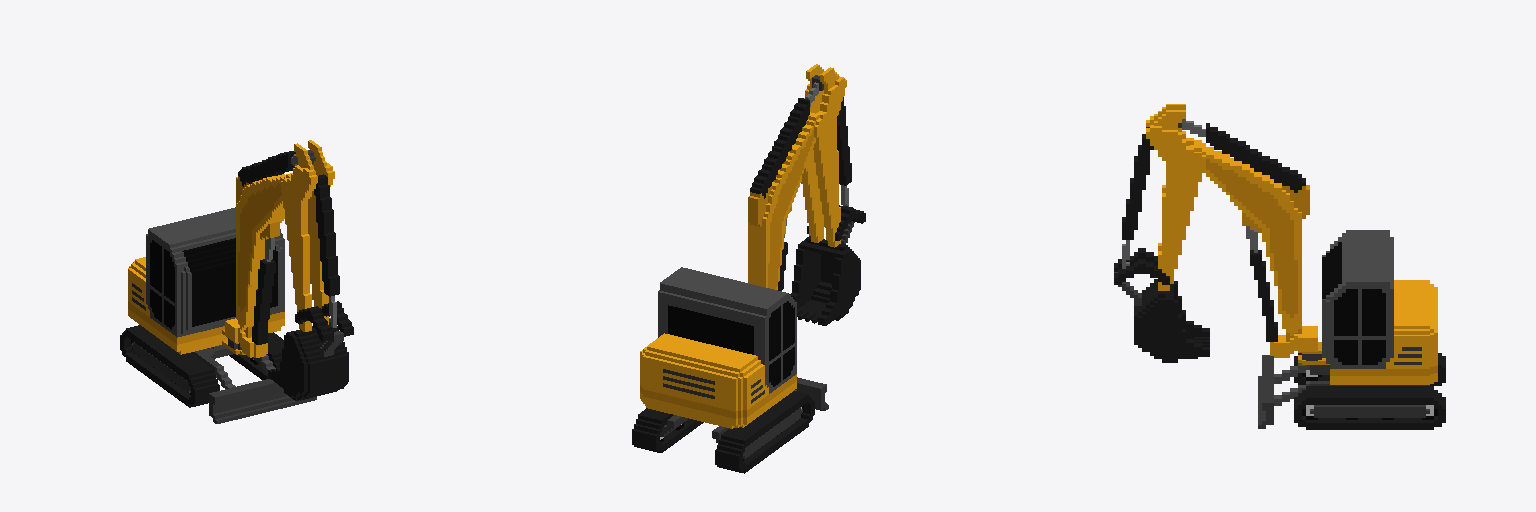
3 renders of one model, left to right at view 1: azimuth 30°, elevation 25°; view 2: azimuth 150°, elevation 25°; view 3: azimuth 270°, elevation 25°, orthographic.
Parts seen in each view (by area): view 1: free_voxel_excavator; view 2: free_voxel_excavator; view 3: free_voxel_excavator.
Part boxes in pixels (x1,y1,x2,y2): free_voxel_excavator: (120,140,353,423); free_voxel_excavator: (632,64,865,473); free_voxel_excavator: (1114,104,1445,429).
Bounding box in the file's own units: 31 × 82 × 83.
Materials: 1 (1 with a texture image).